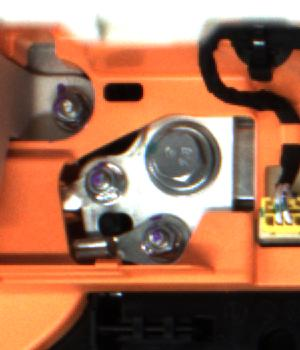nut_b: (138, 115, 227, 196)
